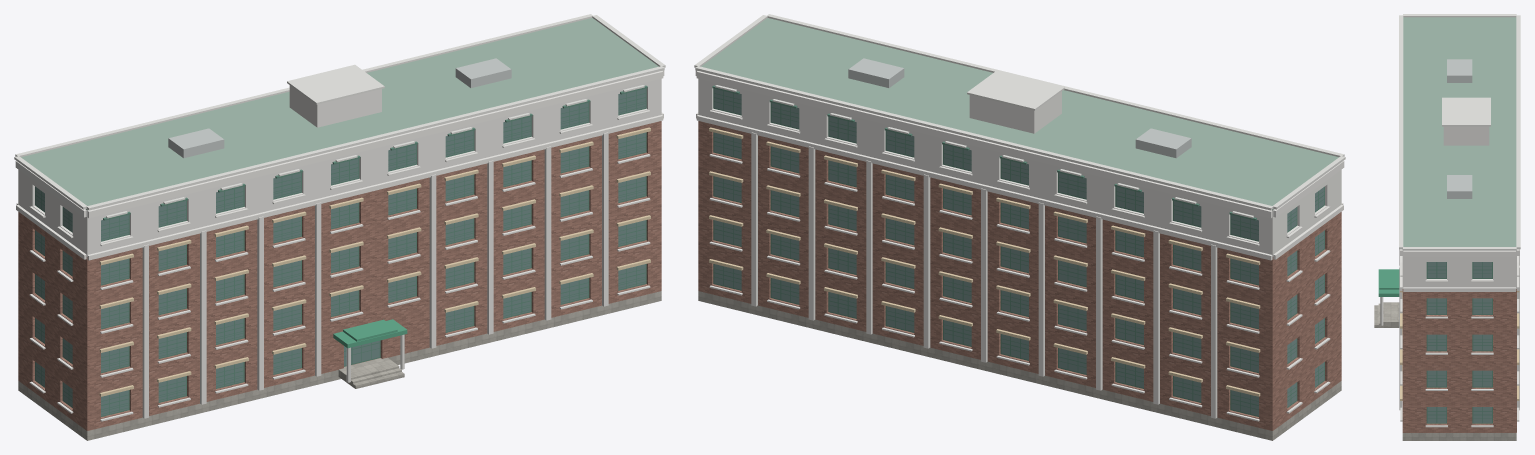
3 views of the same model, side by side, from view 1: azimuth 30°, elevation 25°; view 2: azimuth 150°, elevation 25°; view 3: azimuth 270°, elevation 25° (orthographic). The views are drawn at different scales.
Parts seen in each view (by area): view 1: main-east__brick, main-east__roof, main-east__panel, main-east__glass, main-east__band, main-east__cap, main-east__frame, main-east__greenframe, main-east__ochre, main-east__stone, main-east__sill, main-east__steel (+3 smaller); view 2: main-east__brick, main-east__roof, main-east__panel, main-east__sideglass, main-east__band, main-east__cap, main-east__frame, main-east__stone, main-east__ochre, main-east__sill, main-east__greenframe, main-east__steel; view 3: main-east__roof, main-east__brick, main-east__cap, main-east__panel, main-east__sideglass, main-east__band, main-east__steel, main-east__frame, main-east__sill, main-east__stone, main-east__greencanopy, main-east__greenframe (+3 smaller).
Part boxes in pixels (box(x1,y1,x2,y2)): main-east__brick: box(18, 121, 661, 430); main-east__roof: box(21, 18, 658, 210); main-east__panel: box(18, 78, 661, 418); main-east__glass: box(101, 89, 645, 415); main-east__band: box(15, 70, 664, 382); main-east__cap: box(14, 14, 665, 218); main-east__frame: box(35, 88, 646, 416); main-east__greenframe: box(35, 85, 647, 414); main-east__ochre: box(99, 127, 650, 396); main-east__stone: box(18, 291, 661, 440); main-east__sill: box(29, 110, 650, 421); main-east__steel: box(168, 58, 511, 158); main-east__brick: box(698, 121, 1341, 430); main-east__roof: box(701, 18, 1338, 210); main-east__panel: box(698, 78, 1341, 418); main-east__sideglass: box(714, 89, 1324, 415); main-east__band: box(695, 70, 1344, 260); main-east__cap: box(694, 14, 1345, 218); main-east__frame: box(713, 88, 1324, 416); main-east__stone: box(698, 291, 1341, 440); main-east__ochre: box(709, 127, 1260, 396); main-east__sill: box(709, 110, 1330, 421); main-east__greenframe: box(712, 85, 1324, 409); main-east__steel: box(848, 58, 1191, 158); main-east__roof: box(1402, 17, 1516, 249); main-east__brick: box(1402, 289, 1516, 432); main-east__cap: box(1399, 14, 1520, 250); main-east__panel: box(1399, 126, 1519, 410); main-east__sideglass: box(1427, 262, 1491, 422); main-east__band: box(1380, 249, 1519, 325); main-east__steel: box(1447, 59, 1472, 198); main-east__frame: box(1426, 262, 1492, 423); main-east__sill: box(1400, 262, 1519, 427); main-east__stone: box(1402, 433, 1516, 440); main-east__greencanopy: box(1378, 269, 1399, 296); main-east__greenframe: box(1427, 266, 1491, 418).
Bounding box in the file's own units: 48.66 × 20.66 × 12.8.
15 materials, 2 textured.
